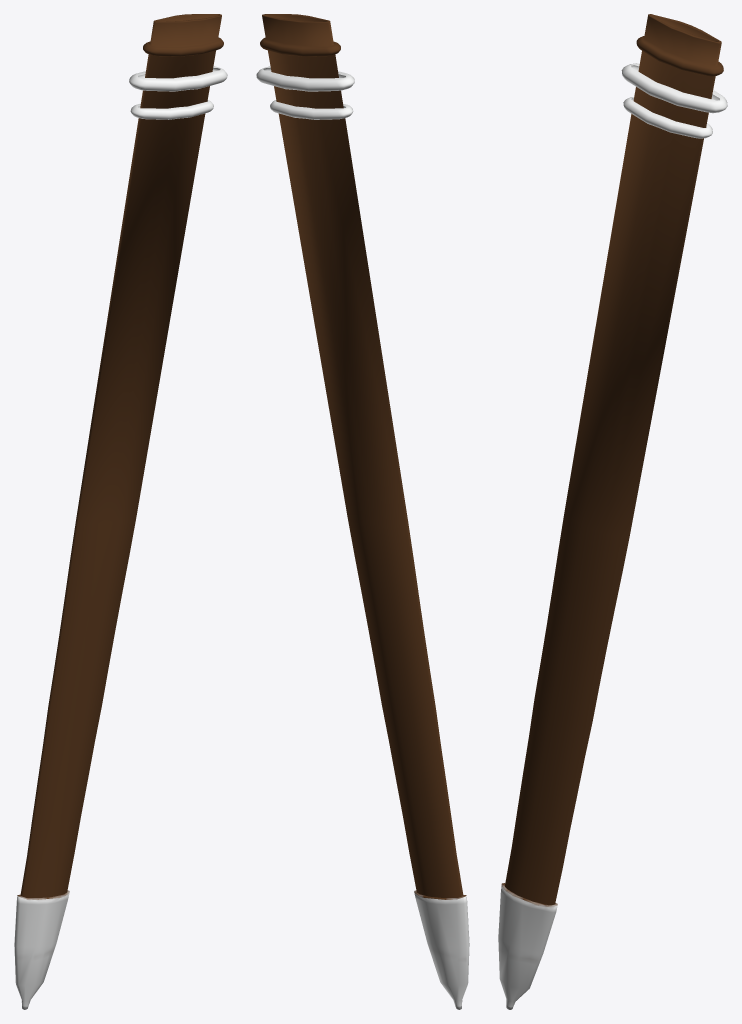
File: Scabbard.fbx
3 views of the same model, side by side, from view 1: azimuth 30°, elevation 25°; view 2: azimuth 150°, elevation 25°; view 3: azimuth 330°, elevation 25° (orthographic). The views are drawn at different scales.
Parts seen in each view (by area): view 1: Scabbard; view 2: Scabbard; view 3: Scabbard.
Boxes of the visible parts, x1,y1,x2,y2 form: Scabbard: (14,14,227,1009); Scabbard: (256,14,469,1009); Scabbard: (498,14,727,1009).
Bounding box in the file's own units: 0.1686 × 0.7281 × 0.0304.
Materials: 1 (1 with a texture image).
